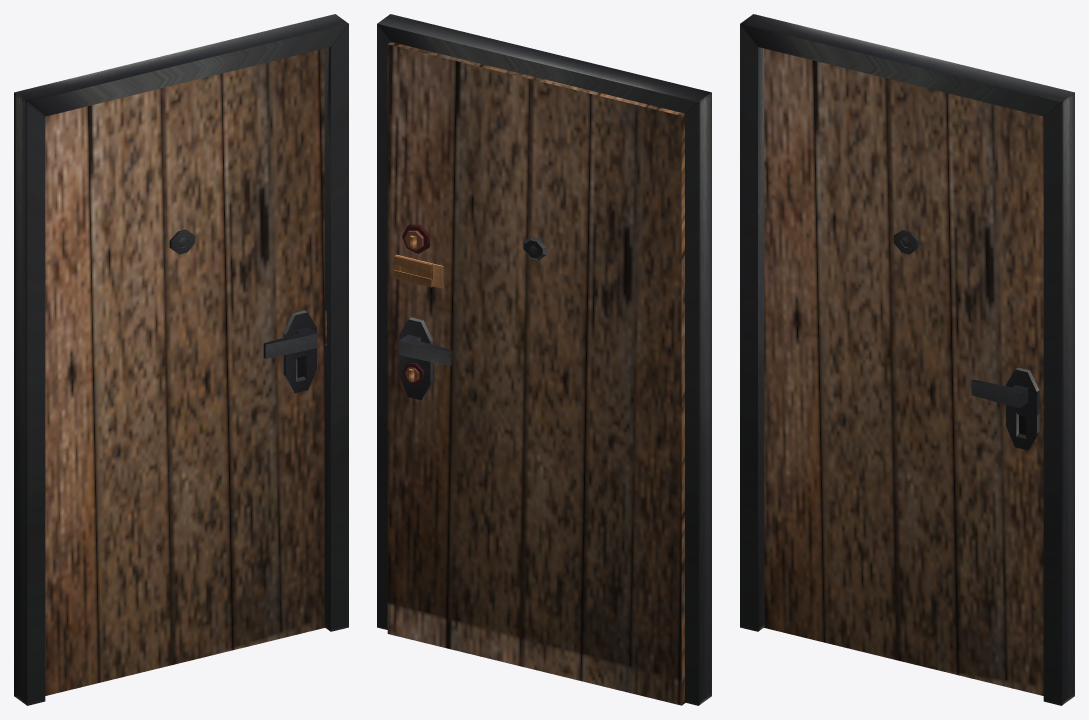
The model's file is door4.FBX.
The picture shows the model from 3 angles, left to right: view 1: azimuth 30°, elevation 25°; view 2: azimuth 150°, elevation 25°; view 3: azimuth 330°, elevation 25°; orthographic projection.
Visible parts, largest first — view 1: Box001, Box006, Box002, e; view 2: Box001, Box006, Box002, Box008, e; view 3: Box001, Box006, Box002, e.
Boxes of the visible parts, x1,y1,x2,y2 form: Box001: (45, 48, 326, 695); Box006: (14, 14, 348, 705); Box002: (283, 310, 316, 393); e: (263, 327, 316, 358); Box001: (387, 42, 685, 705); Box006: (377, 14, 711, 705); Box002: (399, 317, 432, 400); Box008: (394, 254, 443, 288); e: (399, 334, 452, 365); Box001: (764, 48, 1043, 695); Box006: (740, 14, 1074, 705); Box002: (1006, 367, 1039, 450); e: (971, 379, 1028, 408).
Size of the model in its own units: 109 by 196 by 19.17.
9 materials, 9 textured.
